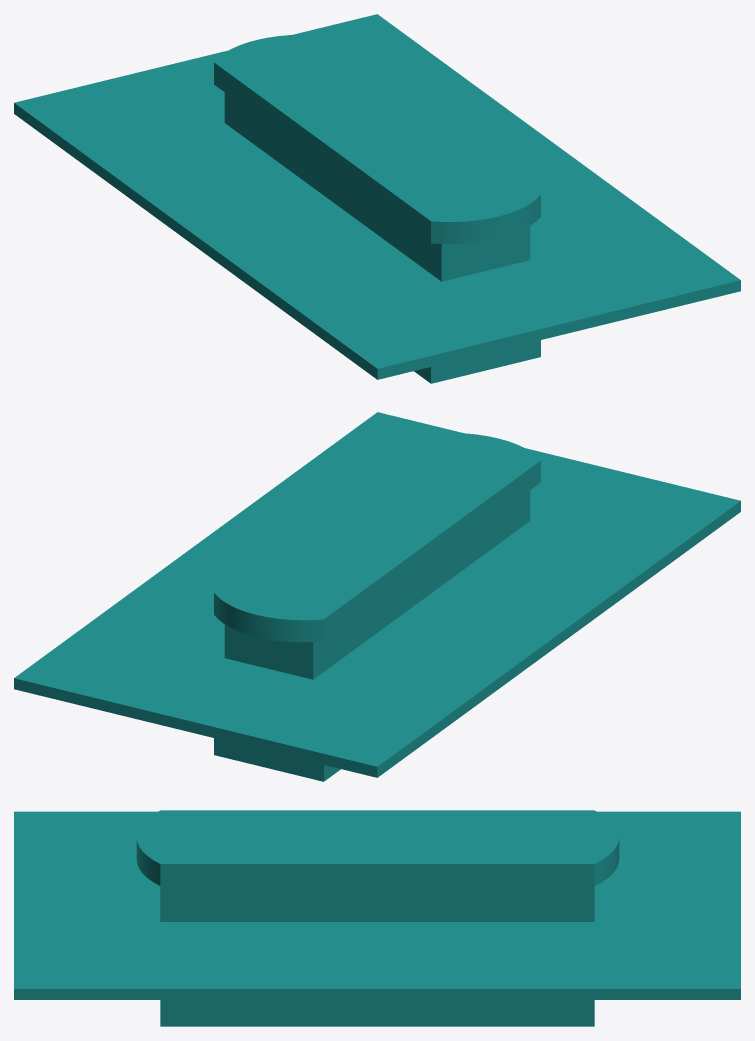
File: original-28.obj
3 views of the same model, one above another, from view 1: azimuth 30°, elevation 25°; view 2: azimuth 150°, elevation 25°; view 3: azimuth 270°, elevation 25° (orthographic).
Visible parts, largest first — view 1: mesh173/mesh173-geometry#mesh173-geometry; view 2: mesh173/mesh173-geometry#mesh173-geometry; view 3: mesh173/mesh173-geometry#mesh173-geometry.
Part boxes in pixels (x1,y1,x2,y2): mesh173/mesh173-geometry#mesh173-geometry: (14,14,740,383); mesh173/mesh173-geometry#mesh173-geometry: (14,412,740,781); mesh173/mesh173-geometry#mesh173-geometry: (14,810,740,1026).
Size of the model in its own units: 0.2221 by 0.0949 by 0.3848.
